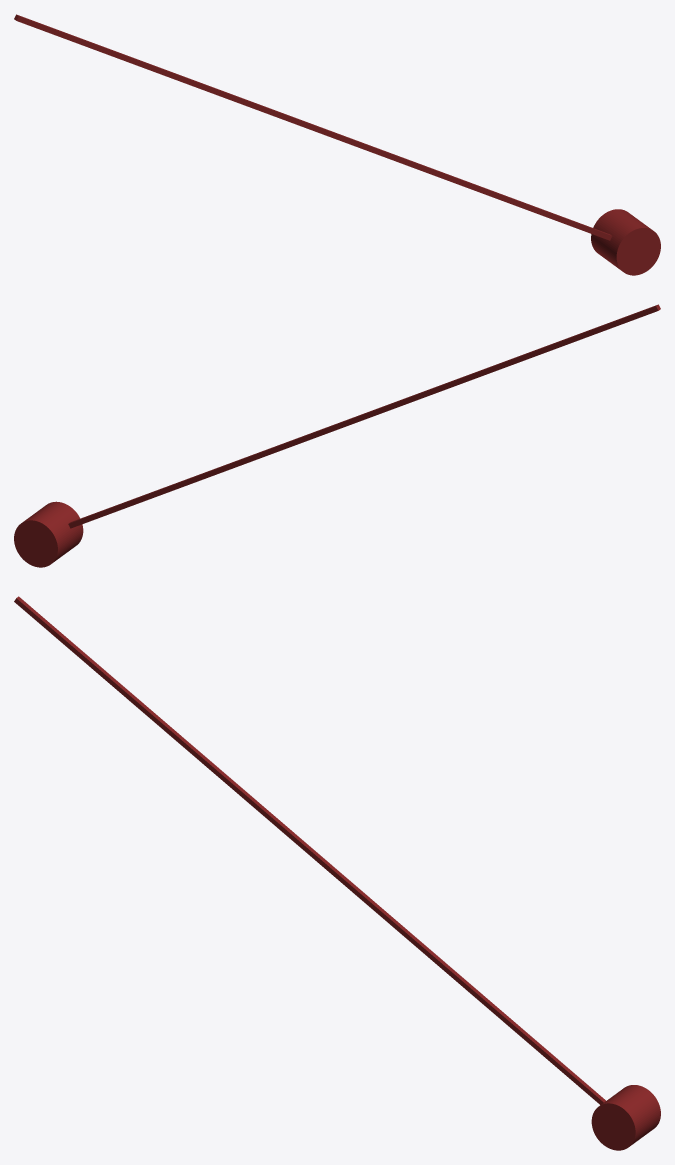
The model's file is pressureneedle.fbx.
The picture shows the model from 3 angles, top to bottom: view 1: azimuth 30°, elevation 25°; view 2: azimuth 150°, elevation 25°; view 3: azimuth 330°, elevation 25°; orthographic projection.
Parts seen in each view (by area): view 1: Cylinder.003; view 2: Cylinder.003; view 3: Cylinder.003.
Boxes of the visible parts, x1=… form: Cylinder.003: x1=14, y1=14, x2=660, y2=275; Cylinder.003: x1=14, y1=304, x2=660, y2=567; Cylinder.003: x1=14, y1=596, x2=660, y2=1150.
Bounding box in the file's own units: 121 × 73.11 × 8.45.
